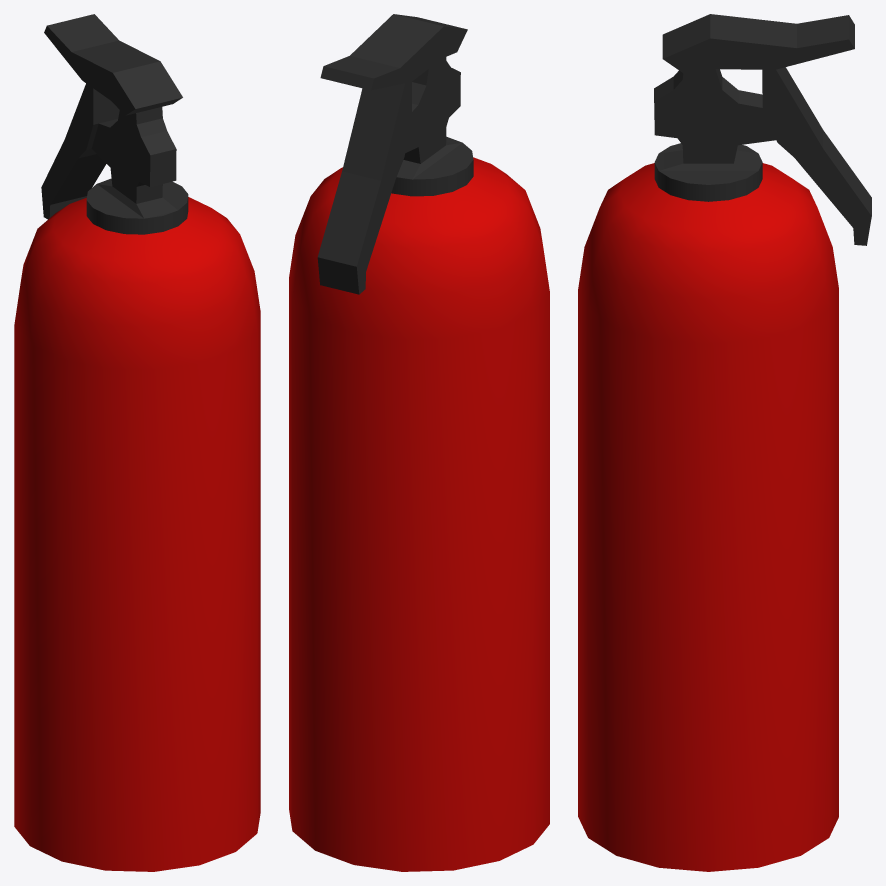
File: Extinguisher.fbx
3 views of the same model, side by side, from view 1: azimuth 30°, elevation 25°; view 2: azimuth 150°, elevation 25°; view 3: azimuth 270°, elevation 25° (orthographic). The views are drawn at different scales.
Parts seen in each view (by area): view 1: Cylinder; view 2: Cylinder; view 3: Cylinder.
Part boxes in pixels (x1,y1,x2,y2): Cylinder: (14, 14, 260, 871); Cylinder: (289, 14, 549, 871); Cylinder: (578, 14, 871, 871).
Bounding box in the file's own units: 0.4 × 1.34 × 0.4501.
